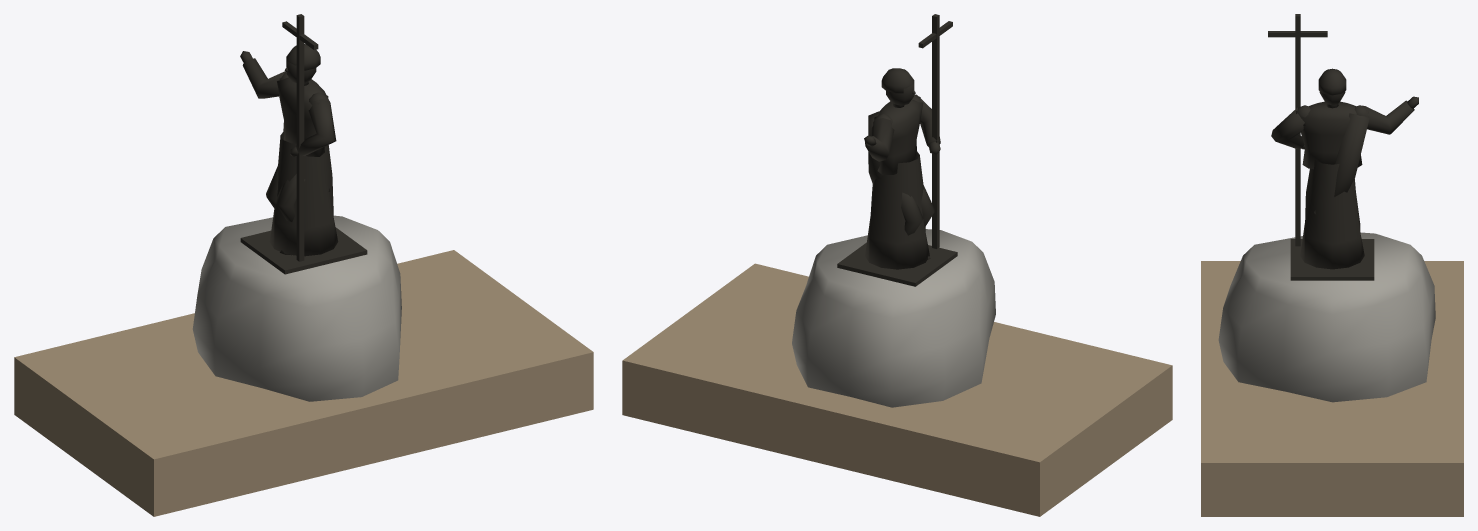
File: andrey_hersones.lod.glb
3 views of the same model, side by side, from view 1: azimuth 30°, elevation 25°; view 2: azimuth 150°, elevation 25°; view 3: azimuth 270°, elevation 25° (orthographic). The views are drawn at different scales.
Visible parts, largest first — view 1: andrey_hersones_stone, andrey_hersones_wall2, andrey_hersones_wall3; view 2: andrey_hersones_stone, andrey_hersones_wall2, andrey_hersones_wall3; view 3: andrey_hersones_stone, andrey_hersones_wall2, andrey_hersones_wall3.
Part boxes in pixels (<box>): andrey_hersones_stone: <box>14,250,593,516</box>; andrey_hersones_wall2: <box>192,215,401,401</box>; andrey_hersones_wall3: <box>240,14,367,274</box>; andrey_hersones_stone: <box>622,263,1172,516</box>; andrey_hersones_wall2: <box>792,229,995,407</box>; andrey_hersones_wall3: <box>837,14,957,286</box>; andrey_hersones_stone: <box>1201,261,1463,516</box>; andrey_hersones_wall2: <box>1218,232,1435,402</box>; andrey_hersones_wall3: <box>1268,14,1418,280</box>.
Size of the model in its own units: 8 by 7.22 by 4.4.
